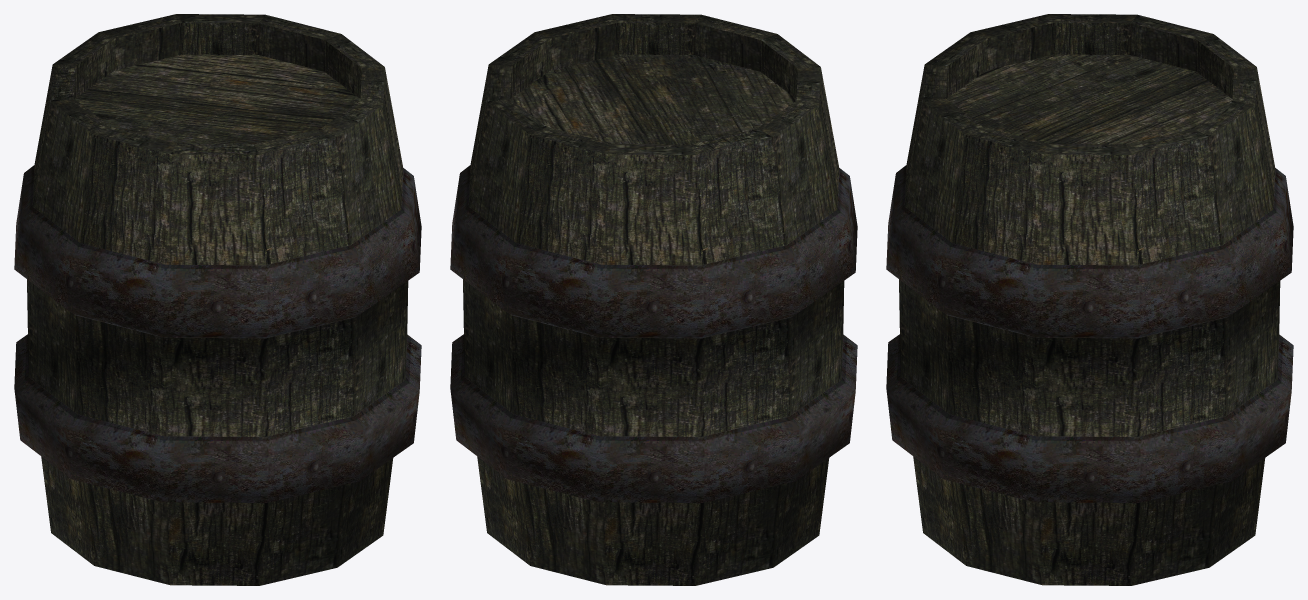
The model's file is contain_barrel_01.dae.
3 views of the same model, side by side, from view 1: azimuth 30°, elevation 25°; view 2: azimuth 150°, elevation 25°; view 3: azimuth 270°, elevation 25° (orthographic).
Visible parts, largest first — view 1: nifid_1-matrix, nifid_6-matrix; view 2: nifid_1-matrix, nifid_6-matrix; view 3: nifid_1-matrix, nifid_6-matrix.
Part boxes in pixels (left/top/right/bottom): nifid_1-matrix: left=27, top=14, right=408, bottom=585; nifid_6-matrix: left=14, top=165, right=421, bottom=502; nifid_1-matrix: left=463, top=14, right=844, bottom=585; nifid_6-matrix: left=450, top=165, right=857, bottom=502; nifid_1-matrix: left=899, top=14, right=1280, bottom=585; nifid_6-matrix: left=886, top=165, right=1293, bottom=502.
Bounding box in the file's own units: 56.83 × 56.83 × 66.63.
2 materials, 2 textured.
